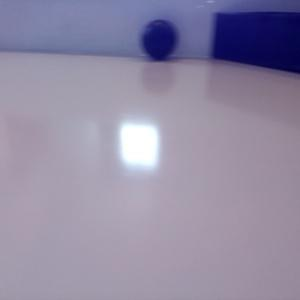zone: (210, 11, 300, 75)
